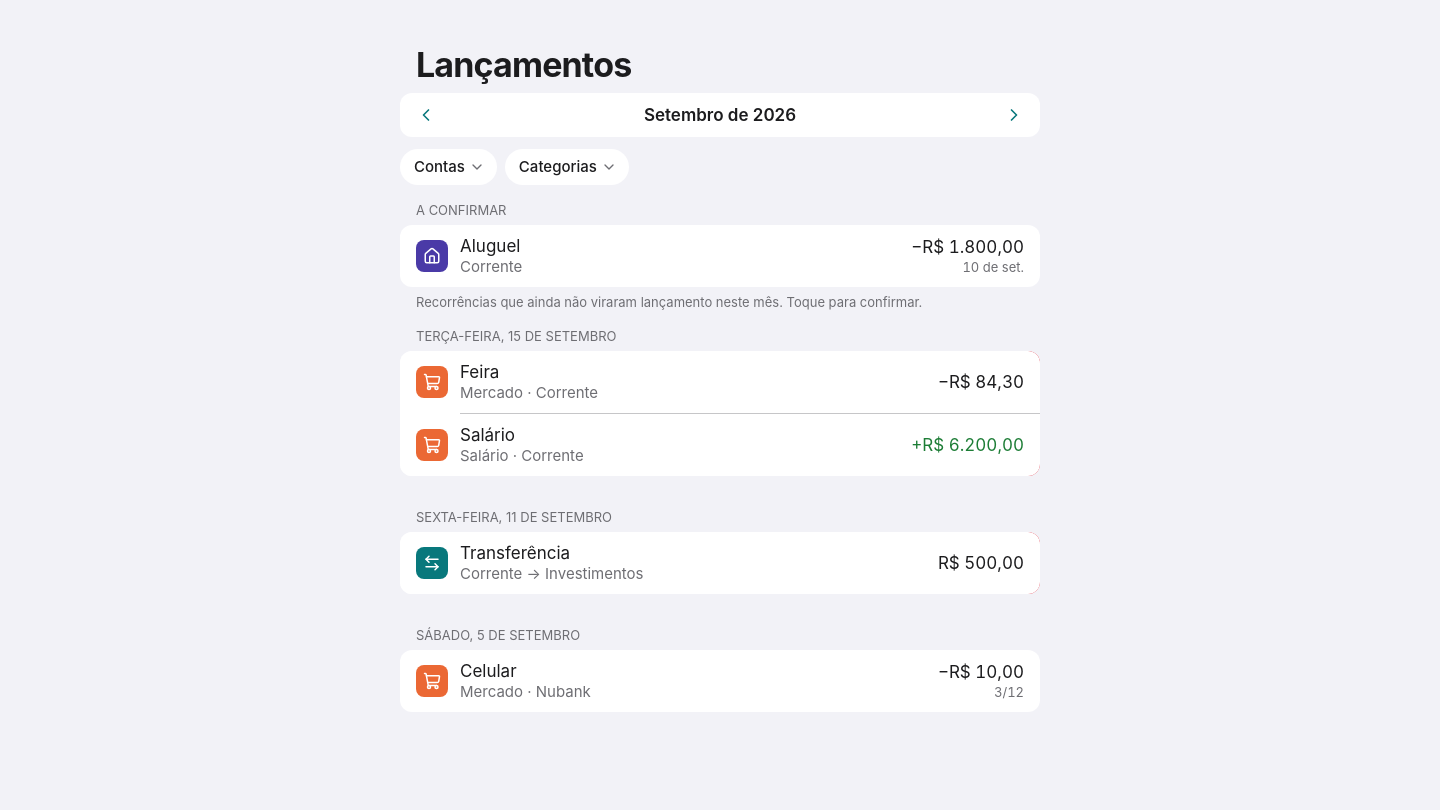
Test case: previstos do mês › confirmar manda o mês, o valor ajustado, a data e a conta
Click the button "Aluguel Corrente −R$ 1.800,00 10 de set.": coordinates (432, 256) left=400, top=225, right=1040, bottom=287
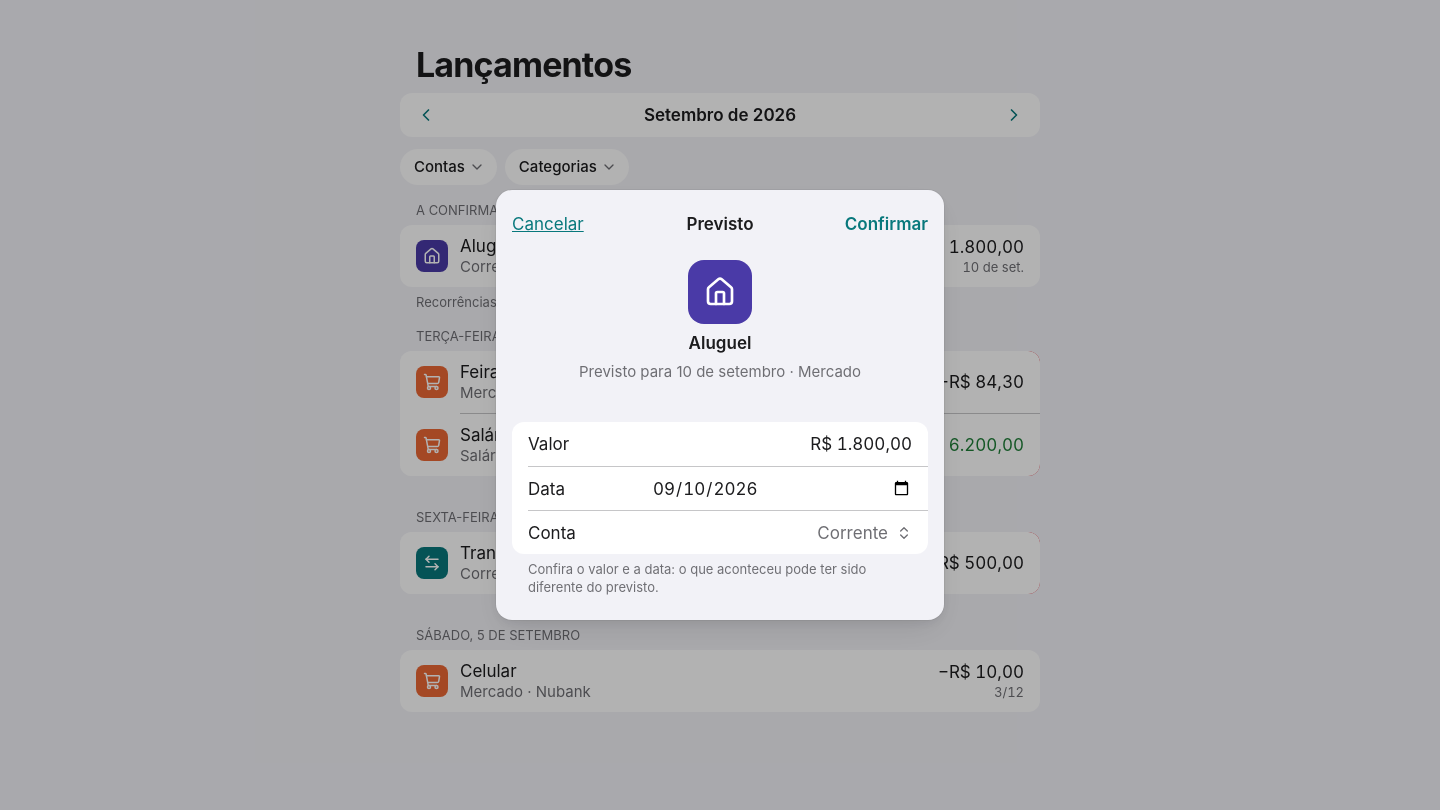
Check: the dialog "Previsto" shows "Previsto para 10 de setembro · Mercado", box left=496, top=190, right=944, bottom=620
Check: the date field labelled "Data" holds "2026-09-10", box left=652, top=468, right=912, bottom=510
Check: the dropdown labelled "Conta" shows "Corrente", box left=652, top=512, right=912, bottom=554
O aluguel veio com R$ 18,50 de multa
Replace the text in the field labelled "Valor" with "181850": coordinates (782, 444) left=652, top=423, right=912, bottom=465
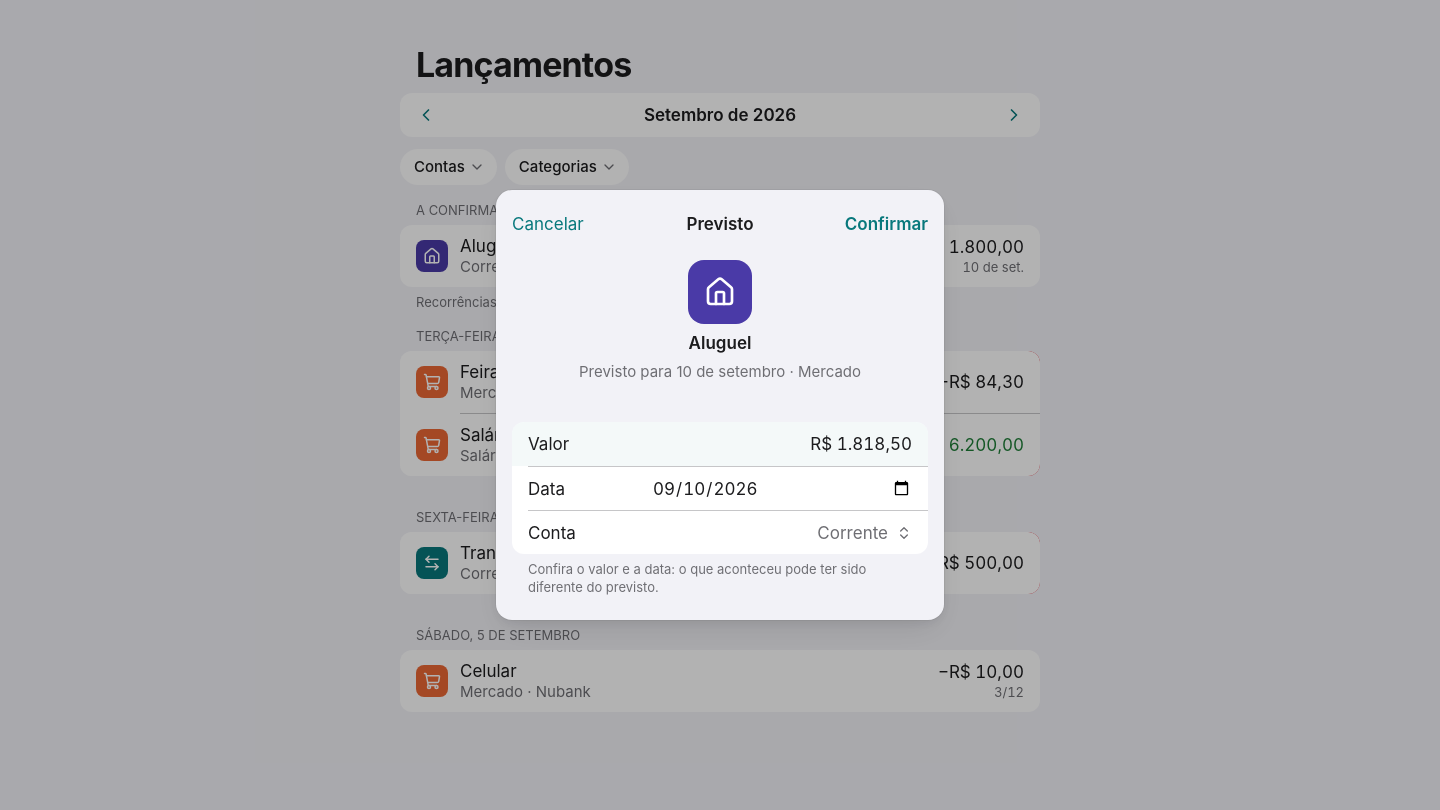
Click the button "Confirmar": coordinates (886, 224) left=845, top=202, right=928, bottom=246
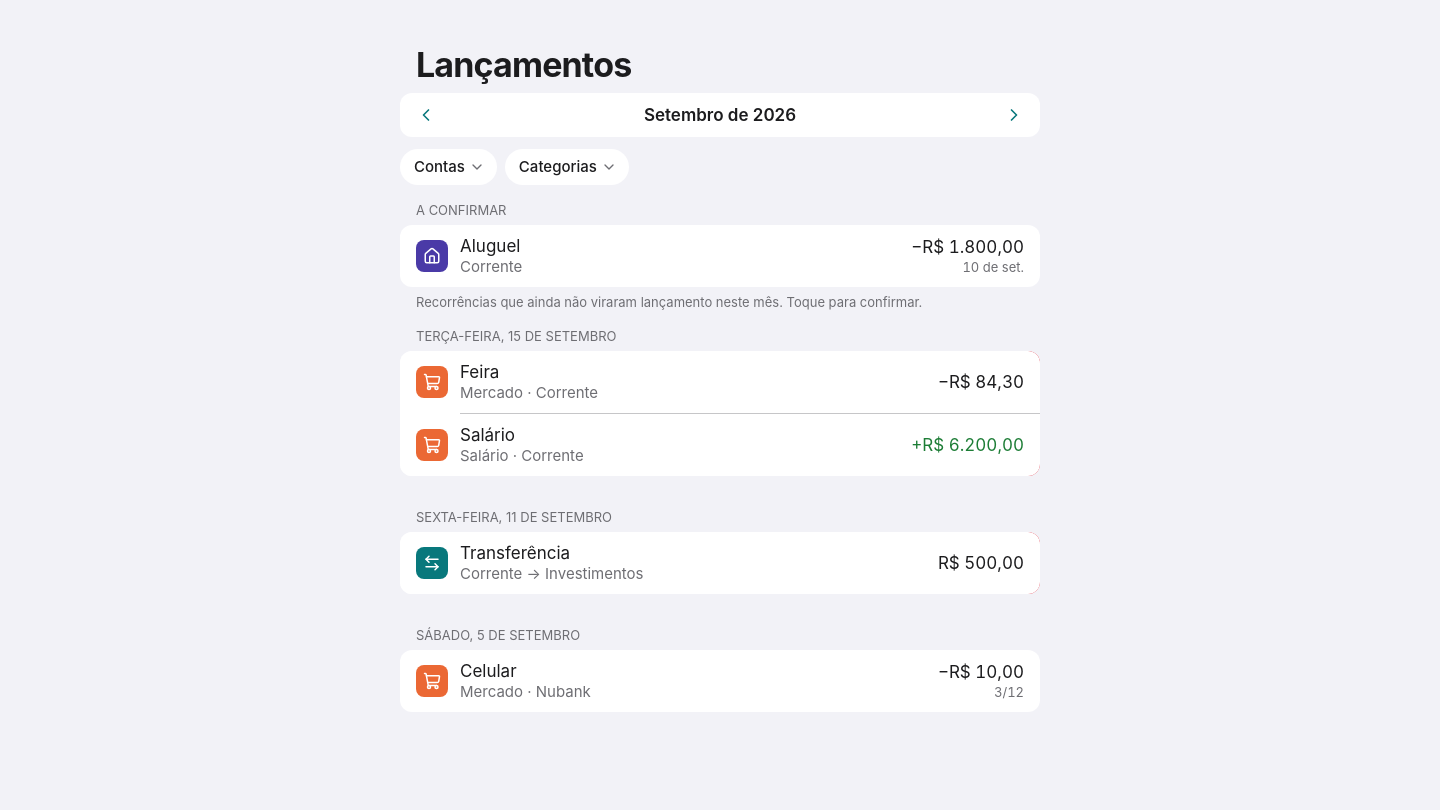
Check: the dialog is gone
